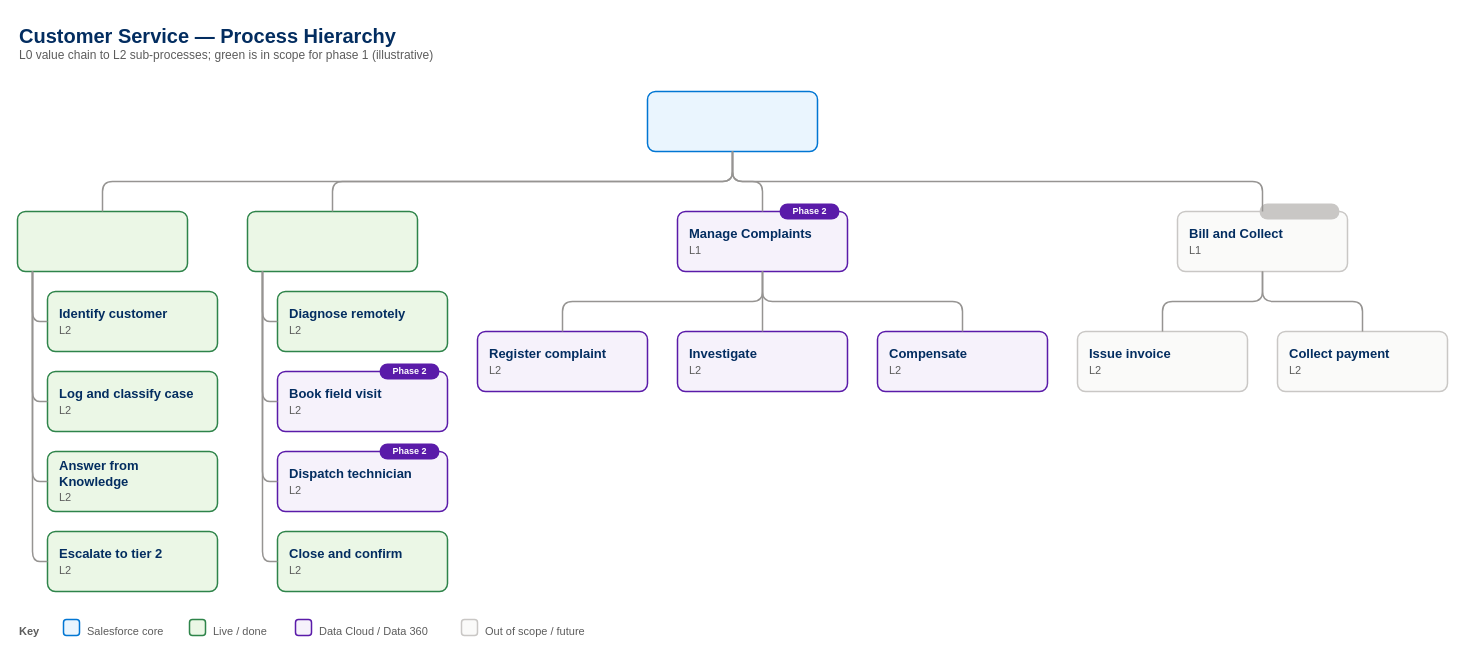
Some shapes in this 1466 by 655 pixel diagram are drawn without their labels. The centre of each missing label's shape, as x and y in pixels:
Handle Enquiries L1: point 102,241
Out of scope: point 1299,211
Resolve Faults L1: point 332,241
Serve the Customer L0 value chain: point 732,121
